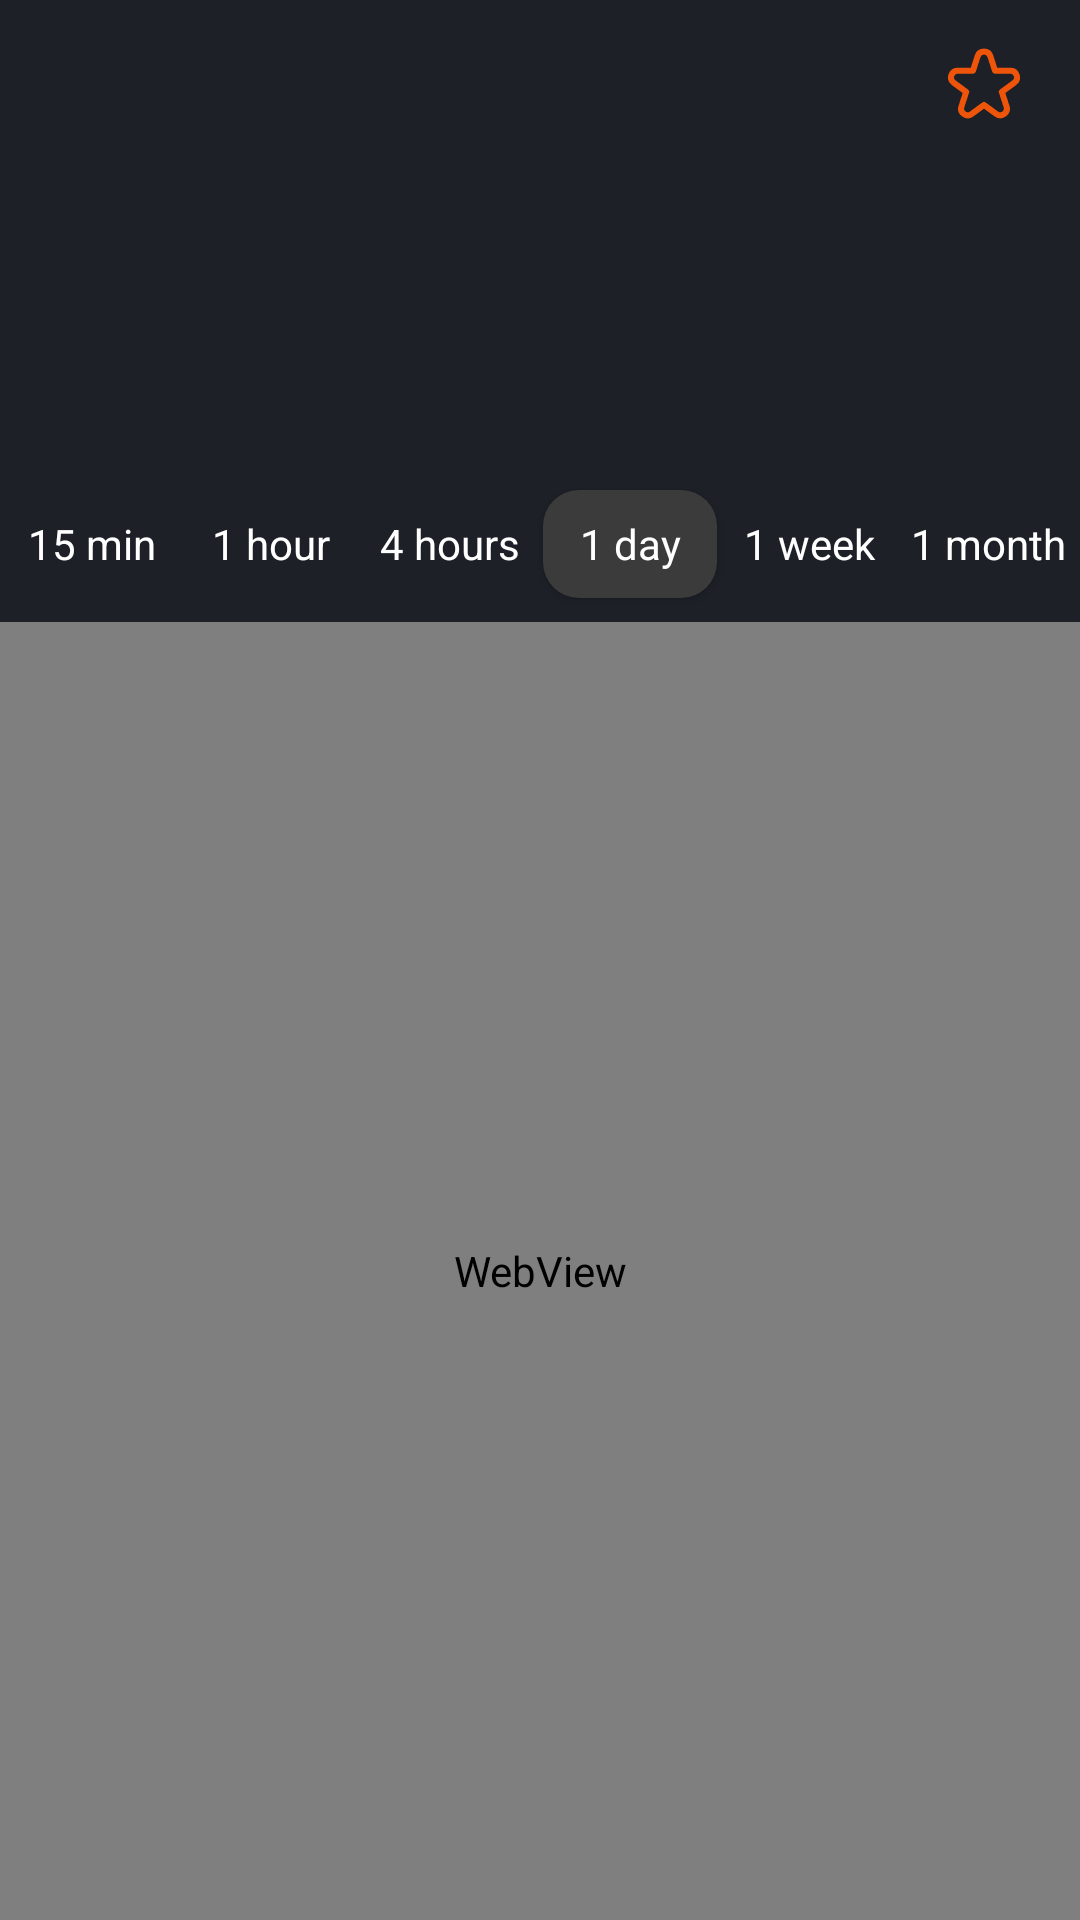

Icons on this 1080px x 1920px Android screen, each with the point to tap as [x,y]:
star: [984,83]
